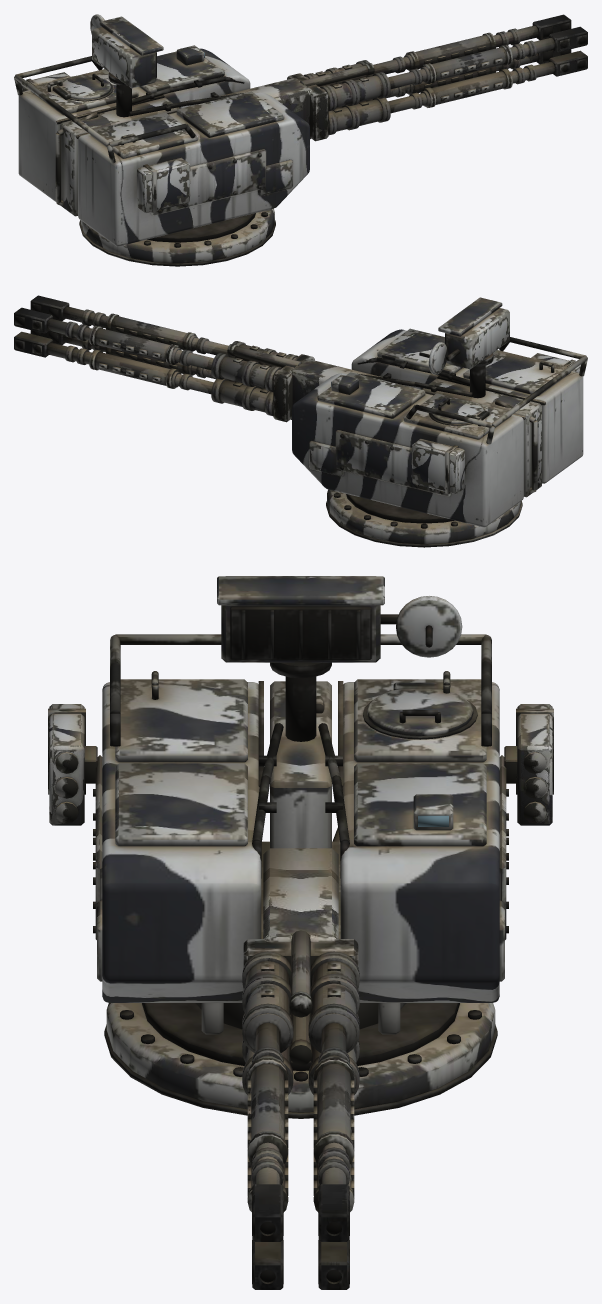
Rendered from turret_kit_quad_arctic_tiger.glb.
3 views of the same model, one above another, from view 1: azimuth 30°, elevation 25°; view 2: azimuth 150°, elevation 25°; view 3: azimuth 270°, elevation 25° (orthographic). The views are drawn at different scales.
Visible parts, largest first — view 1: turret_twin_quad, guns, pods; view 2: turret_twin_quad, guns, pods; view 3: turret_twin_quad, guns, pods.
Part boxes in pixels (x1,y1,x2,y2): turret_twin_quad: (14,14,309,266); guns: (220,14,587,141); pods: (20,72,190,213); turret_twin_quad: (292,297,587,547); guns: (14,295,382,422); pods: (411,353,581,494); turret_twin_quad: (93,576,508,1118); guns: (242,848,359,1289); pods: (48,704,553,825).
Size of the model in its own units: 2.7 by 1.01 by 1.15.
Materials: 4 (3 with a texture image).
